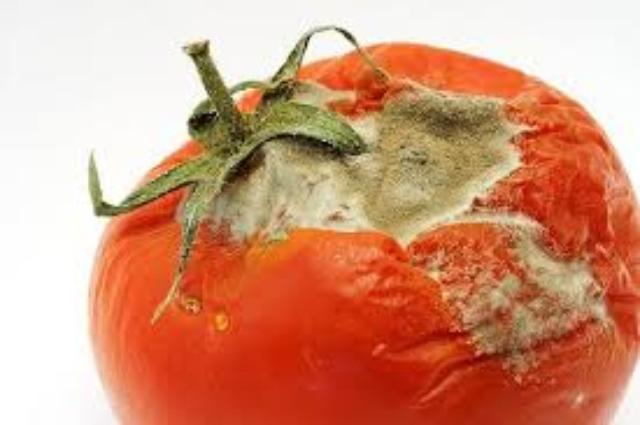defect: (74, 18, 640, 425)
